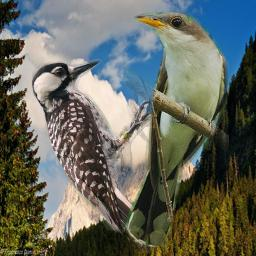Cuckoo: (126, 12, 229, 247)
Woodpecker: (31, 59, 160, 251)
